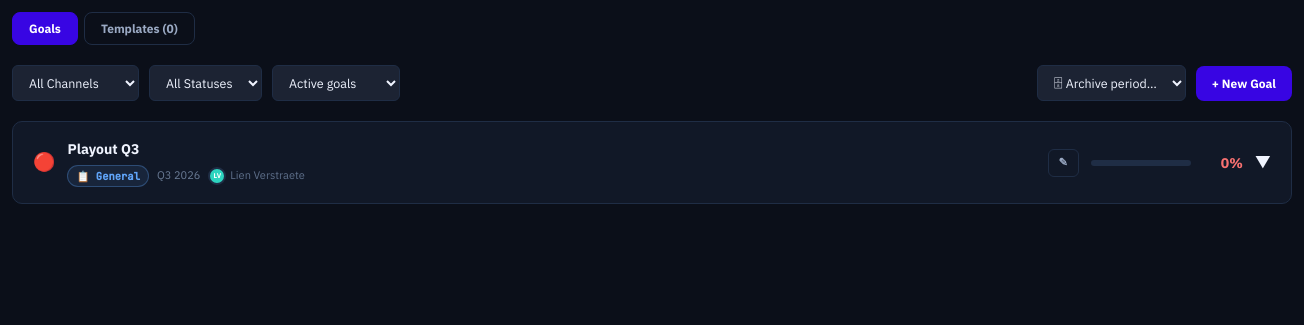
GoalsPage — period archive › archives a period from the header control and restores it from the archived view
Select "Q3 2026 (1)" in the dropdown named "Archive period" at (1111, 83), box [1037,65,1186,101]
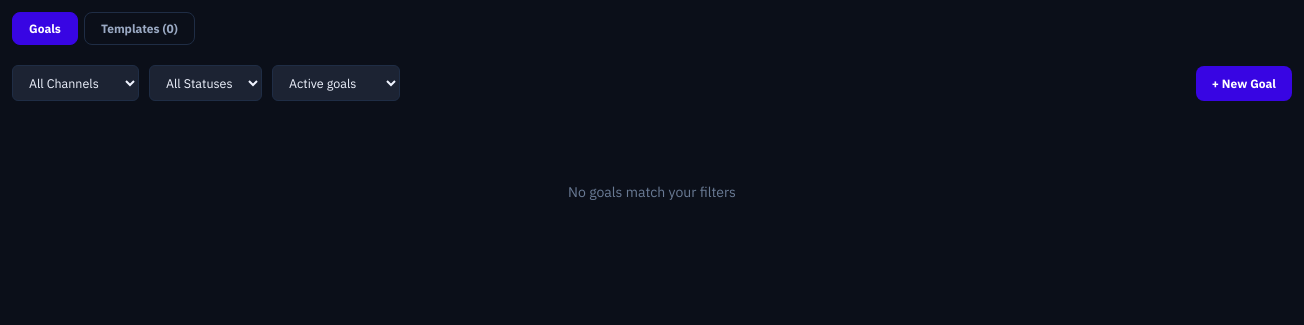
Check: the text "No goals match your filters" is shown, box [568,183,736,201]
Select "Archived goals" in the dropdown named "Show active or archived goals" at (336, 83), box [272,65,400,101]
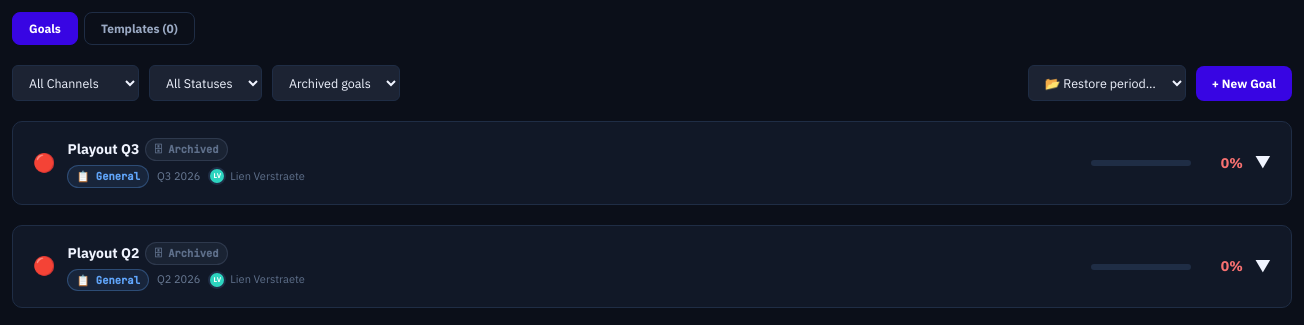
Select "Q2 2026 (1)" in the dropdown named "Restore period" at (1107, 83), box [1028,65,1186,101]
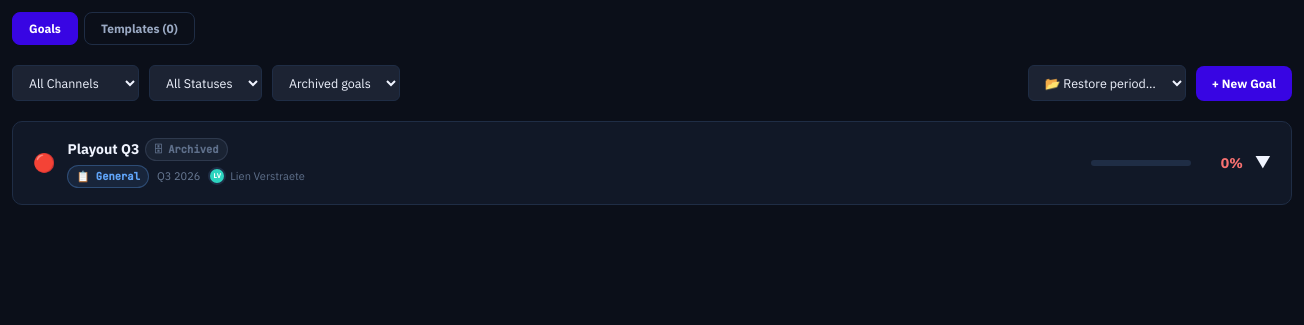
Check: the text "Playout Q3" is shown, box [68,138,139,161]
Check: the text "Playout Q2" is gone
